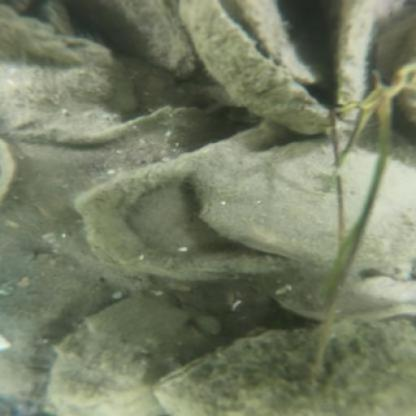Oyster- Indeterminate: (358, 271, 416, 302)
Oyster-Closed: (197, 138, 416, 278), (144, 319, 415, 416), (43, 297, 180, 409), (0, 18, 122, 136), (74, 0, 195, 74), (235, 0, 328, 83), (381, 14, 416, 85)
Oyster-Open: (178, 0, 377, 137)
